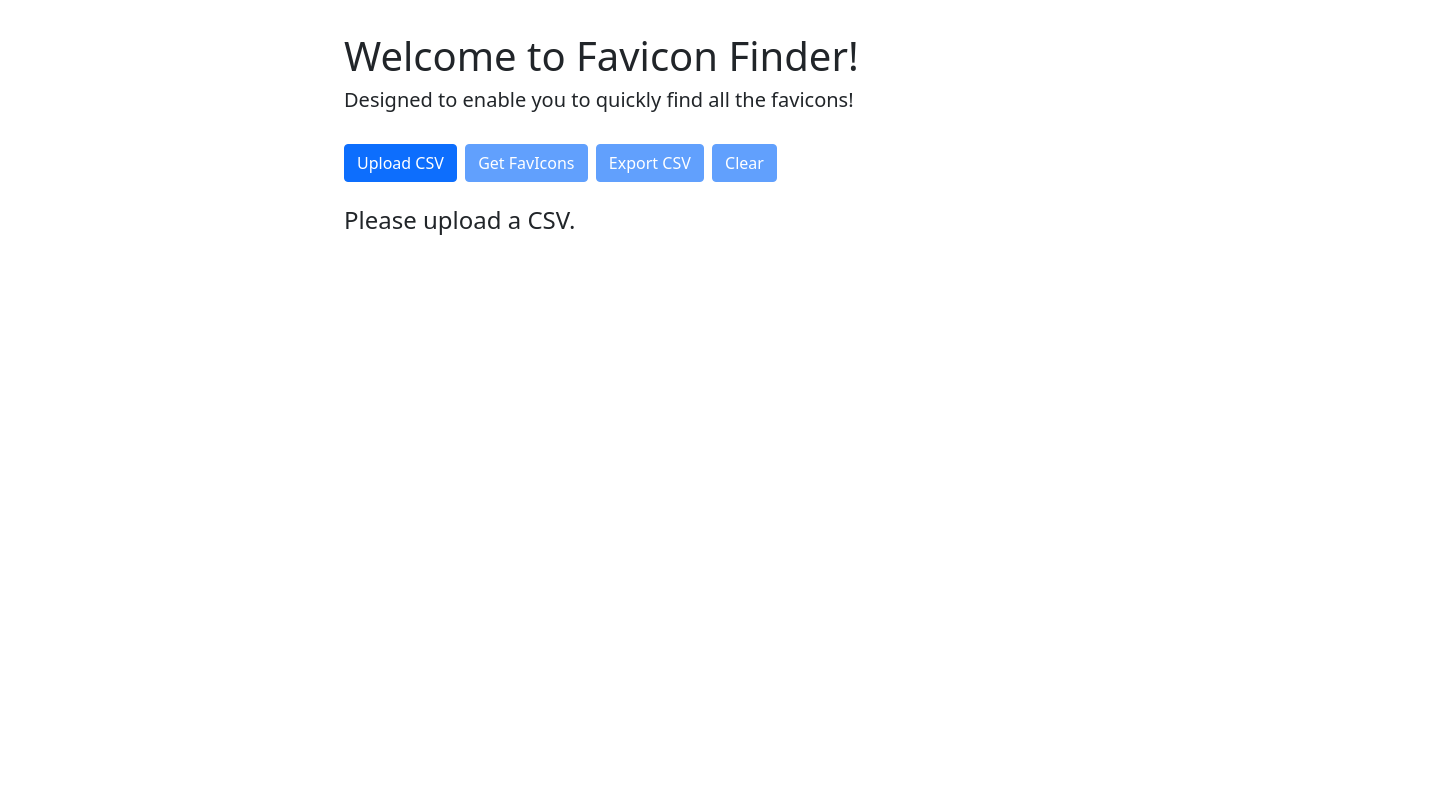
Home › expects modal to open and close
The image size is (1440, 810).
// Open Modal
Click the button "Upload CSV": (400,163) [344, 144, 457, 182]
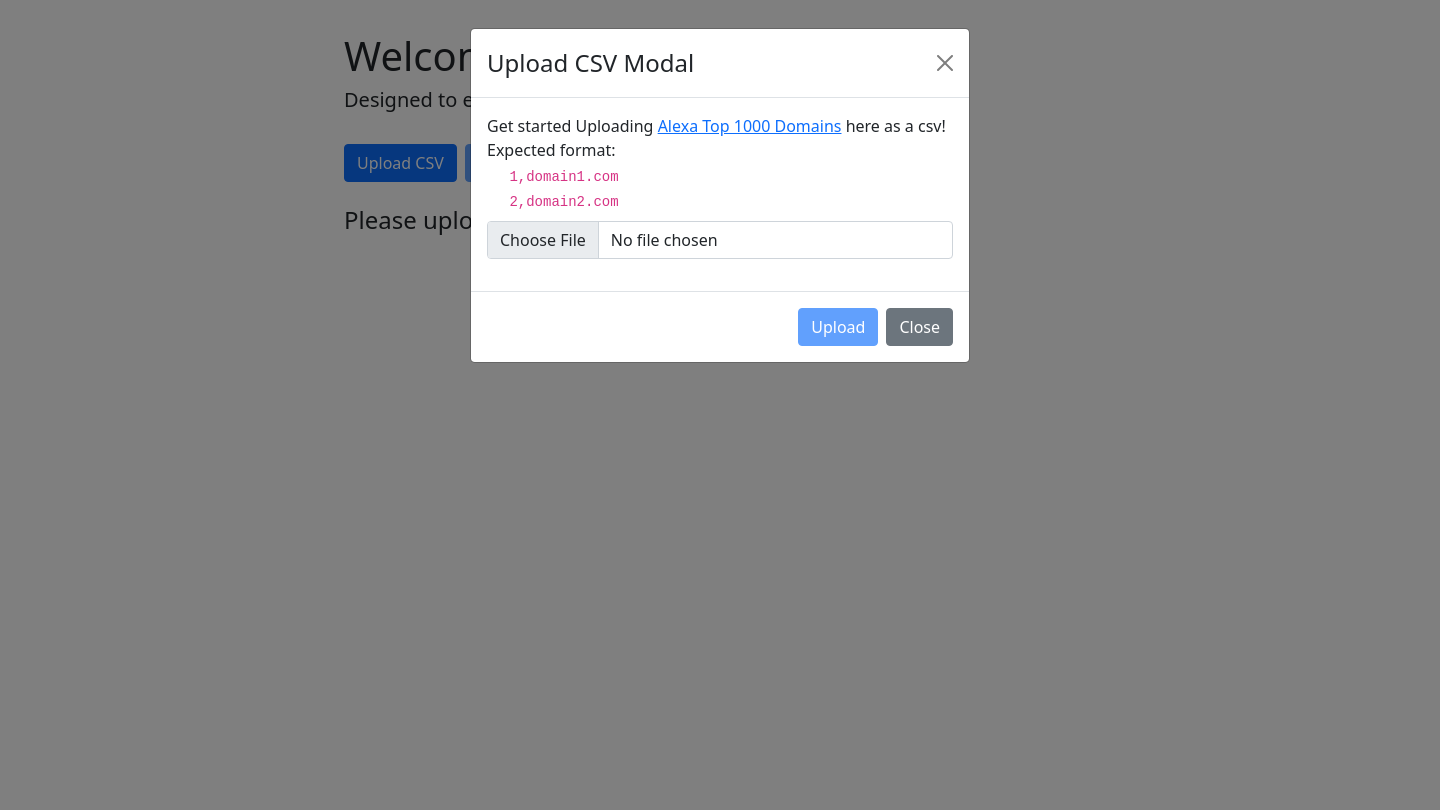
// Close Modal
Click the button "Close": (920,327) [886, 308, 953, 346]
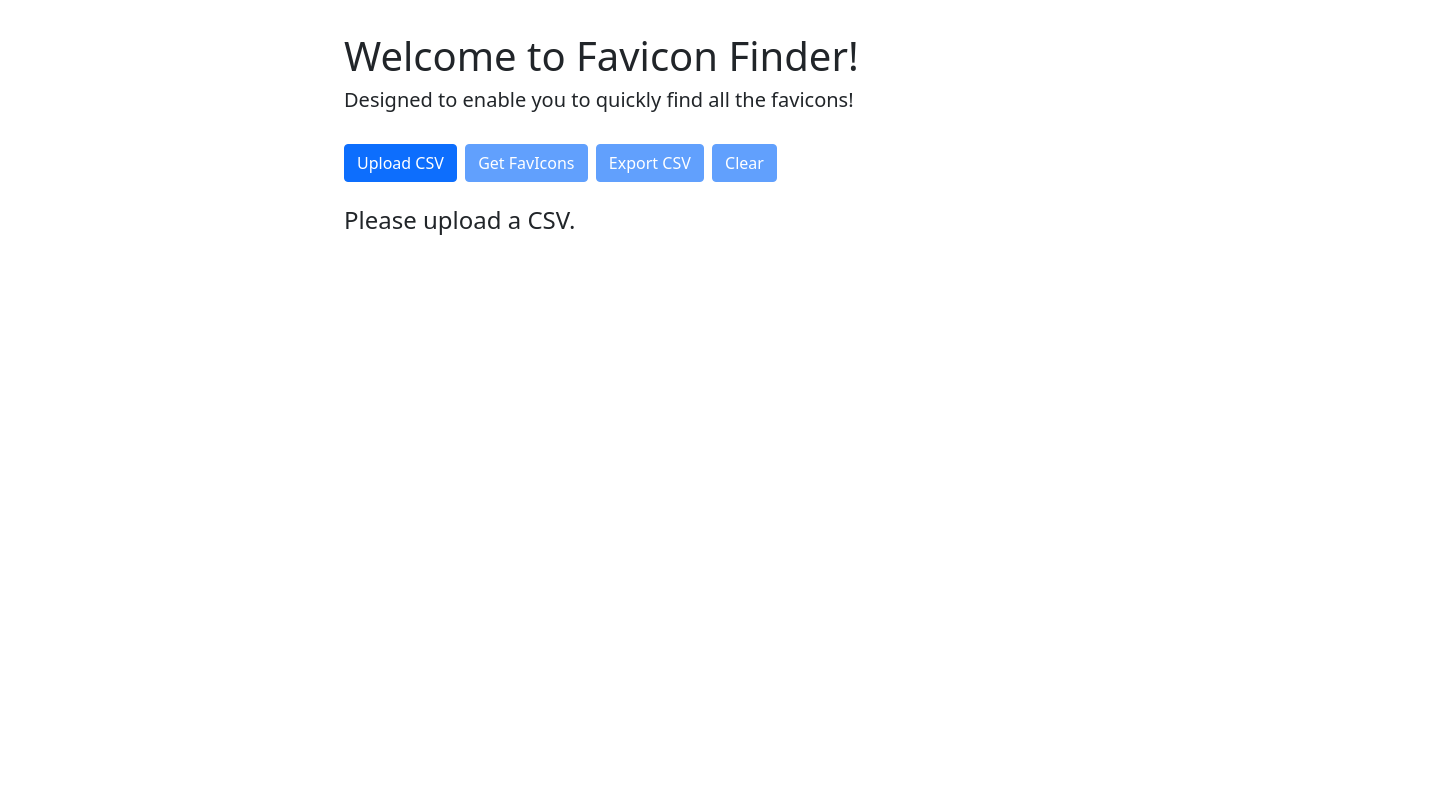
expect the button "Close" is gone: met
